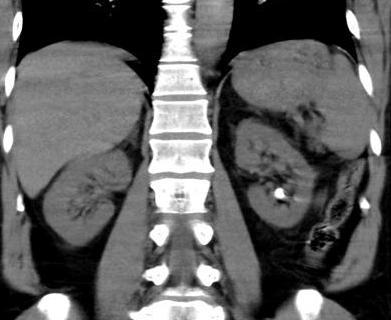Tas_Var: (274, 185, 287, 202)
